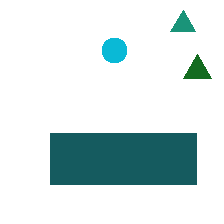circle: (102, 38, 126, 62)
rectangle: (50, 133, 196, 184)
triangle: (183, 54, 211, 78), (170, 10, 195, 31)
